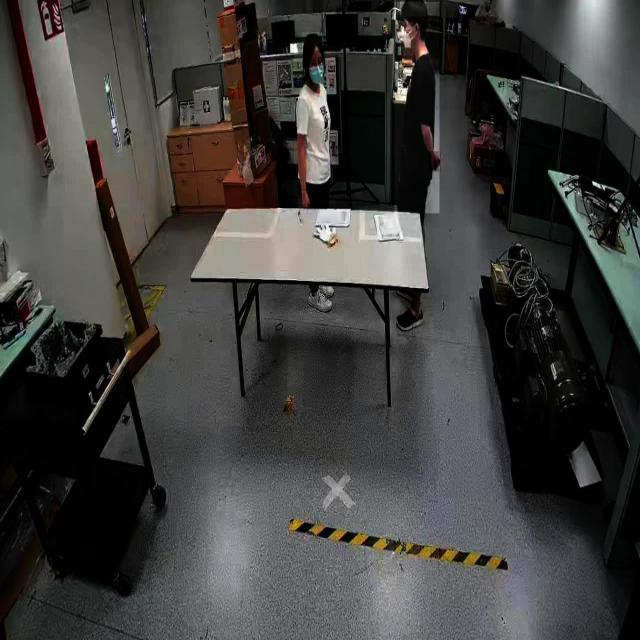face_mask: (308, 57, 326, 92), (399, 20, 415, 57)
hand_noglove: (429, 151, 441, 173), (298, 191, 310, 209)
head_nohelmet: (400, 1, 426, 18), (302, 32, 324, 52)
person: (394, 2, 440, 214), (294, 39, 336, 205)
shoes: (394, 302, 426, 336), (307, 287, 335, 314)
